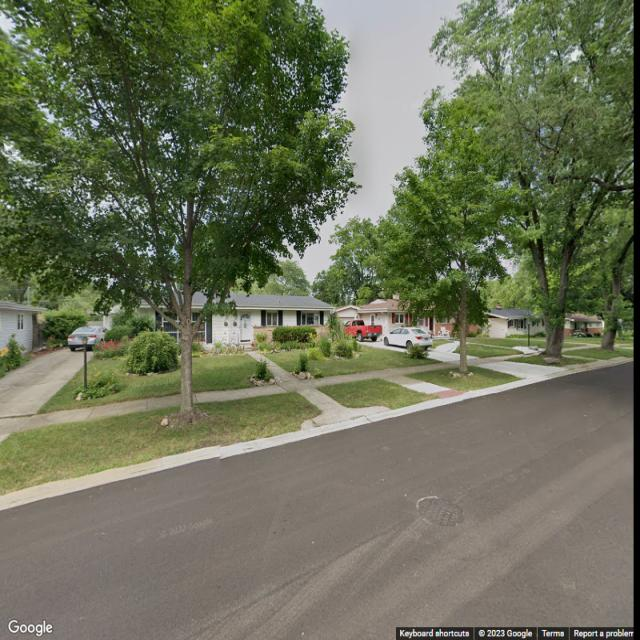House: (100, 295, 336, 351), (356, 293, 478, 338), (0, 301, 48, 362), (481, 302, 546, 338), (561, 314, 605, 337)
